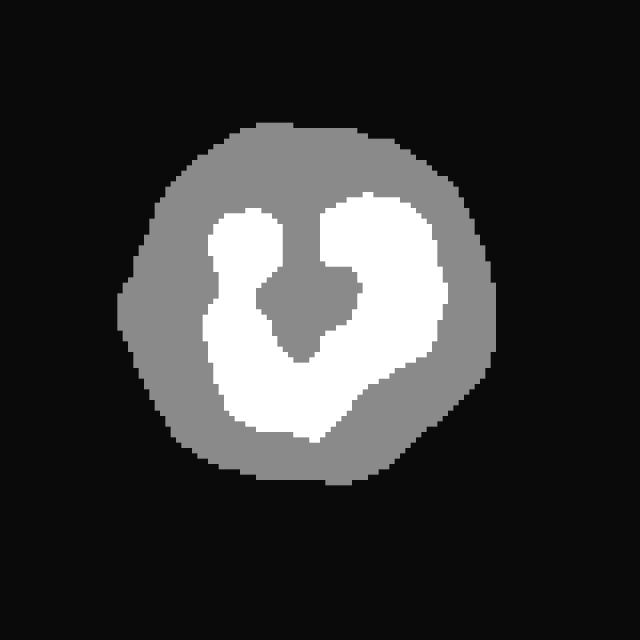WBC: (106, 96, 538, 507)
